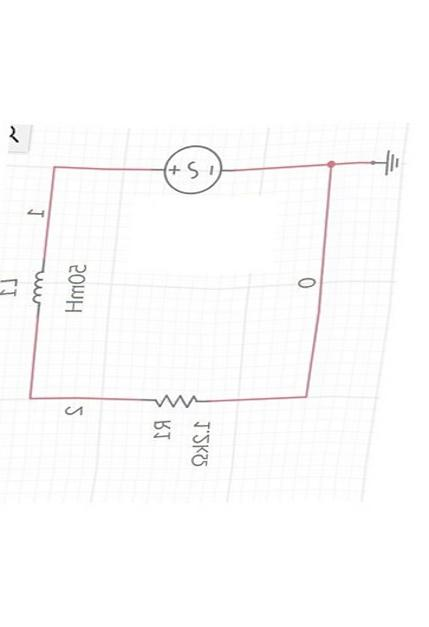Battery: (139, 129, 242, 208)
